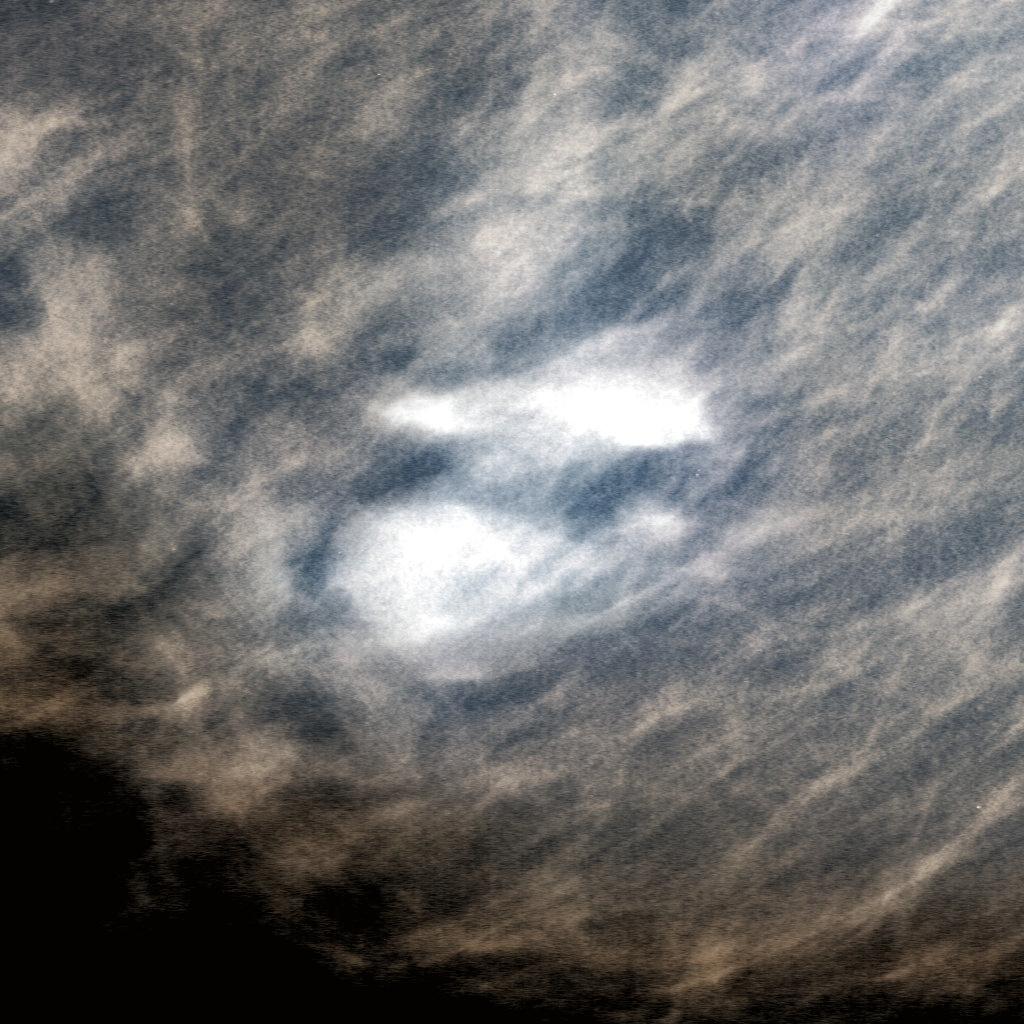tumor: (328, 336, 696, 688)
